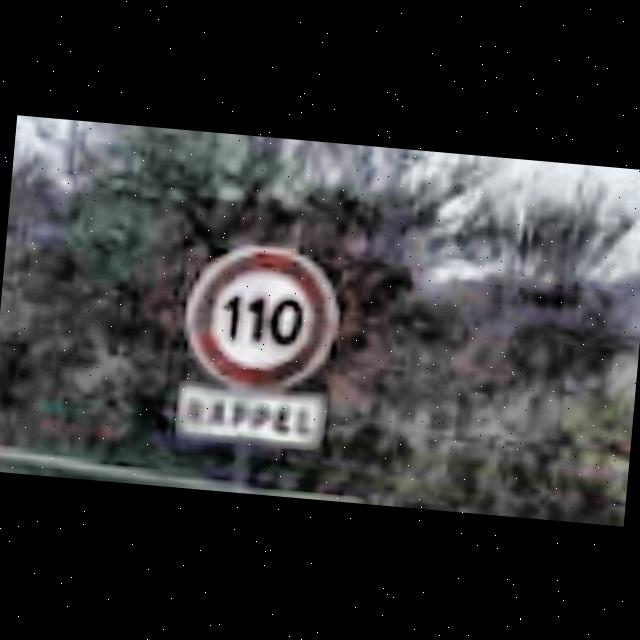speed_110: (179, 236, 349, 400)
